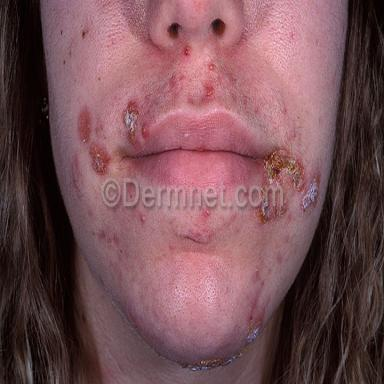Impetigo: (262, 149, 307, 197), (123, 99, 142, 148), (255, 200, 288, 225), (300, 175, 319, 212), (89, 142, 110, 175), (78, 107, 91, 143)
